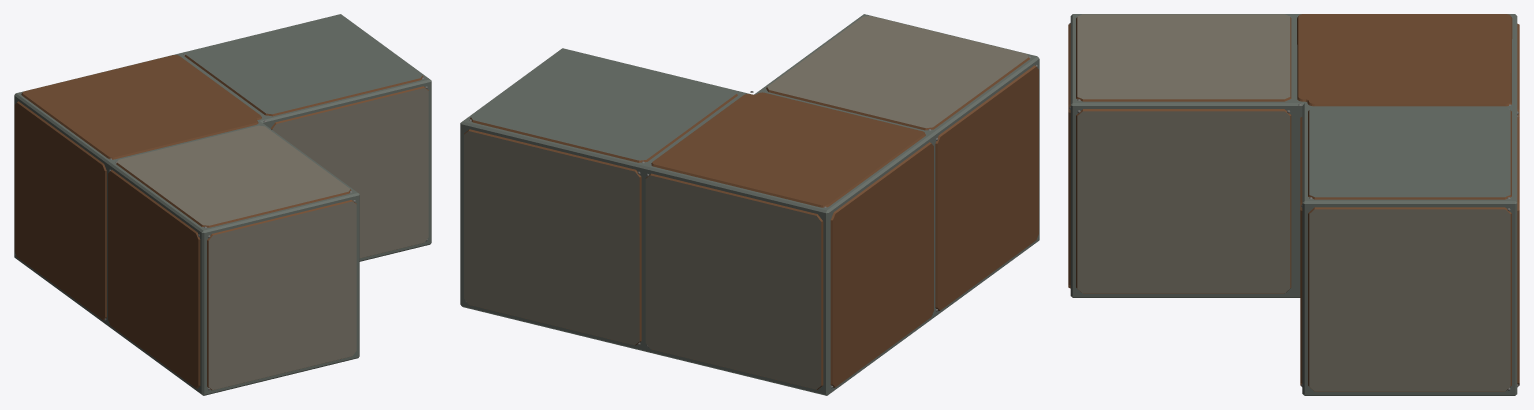
The model's file is R4B_CornerL3.fbx.
The picture shows the model from 3 angles, left to right: view 1: azimuth 30°, elevation 25°; view 2: azimuth 150°, elevation 25°; view 3: azimuth 270°, elevation 25°; orthographic projection. The views are drawn at different scales.
Parts seen in each view (by area): view 1: R4B_CornerL3; view 2: R4B_CornerL3; view 3: R4B_CornerL3.
Boxes of the visible parts, x1,y1,x2,y2 form: R4B_CornerL3: (14,14,431,395); R4B_CornerL3: (460,14,1039,395); R4B_CornerL3: (1068,14,1519,395).
Bounding box in the file's own units: 1.07 × 0.52 × 1.07.
